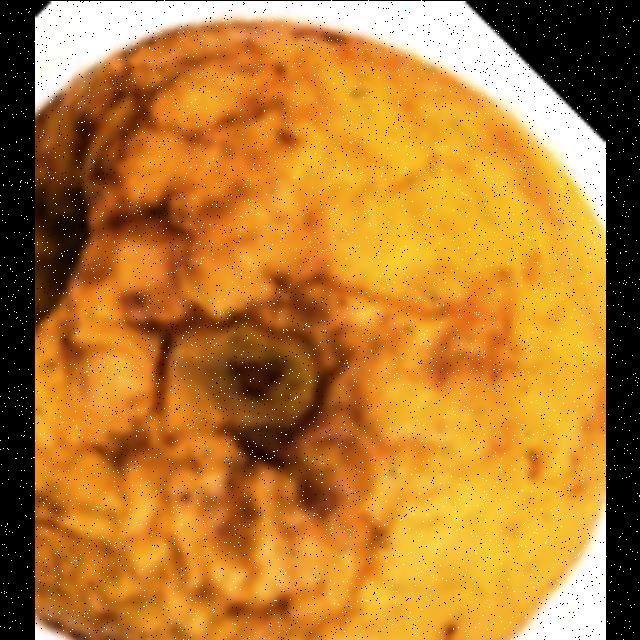Apel Tidak Segar: (34, 12, 606, 640)
